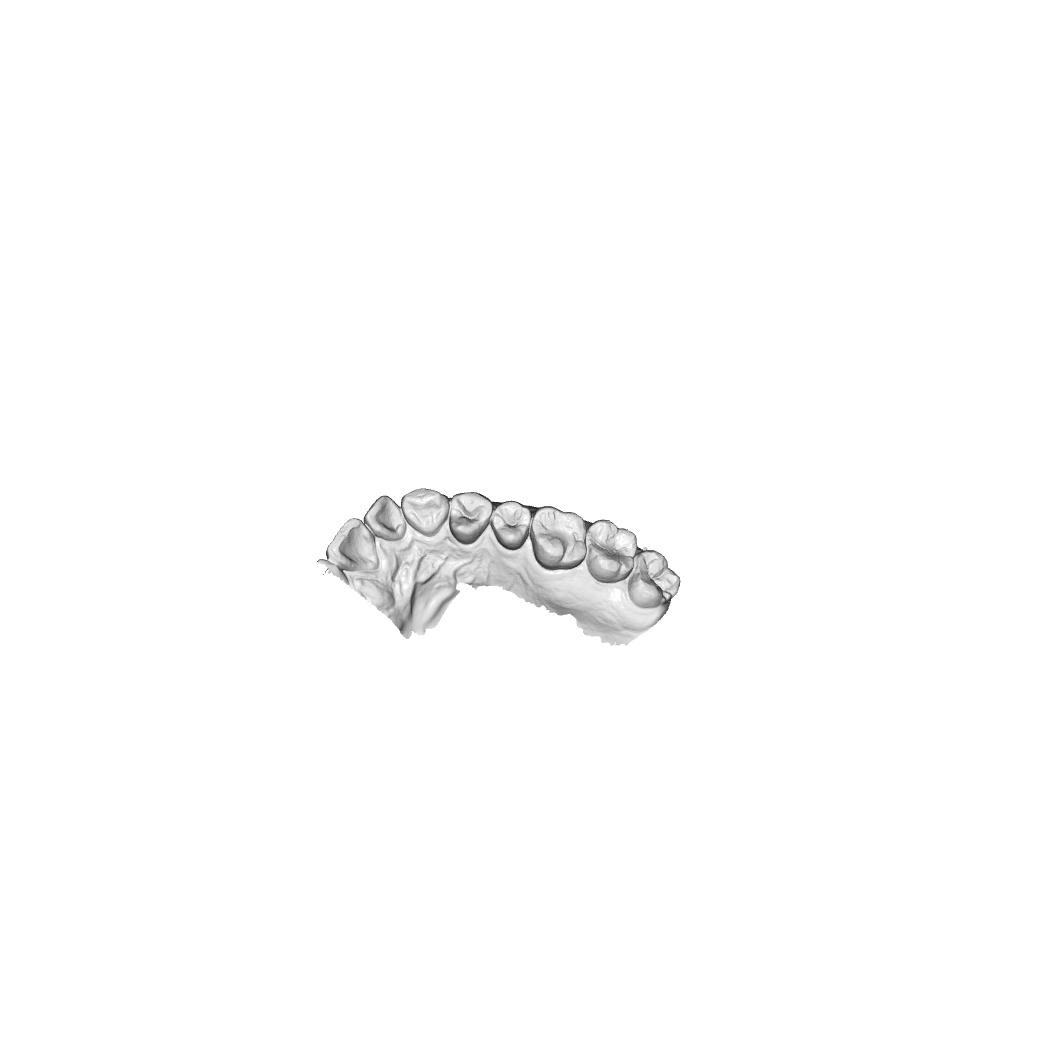canine: (400, 487, 451, 539)
incisor: (325, 516, 381, 572), (363, 495, 407, 542)
molar: (528, 505, 587, 572), (584, 518, 639, 585), (626, 549, 681, 609)
premolar: (448, 491, 494, 545), (488, 499, 532, 551)
